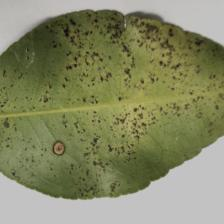canker: (68, 21, 192, 90)
